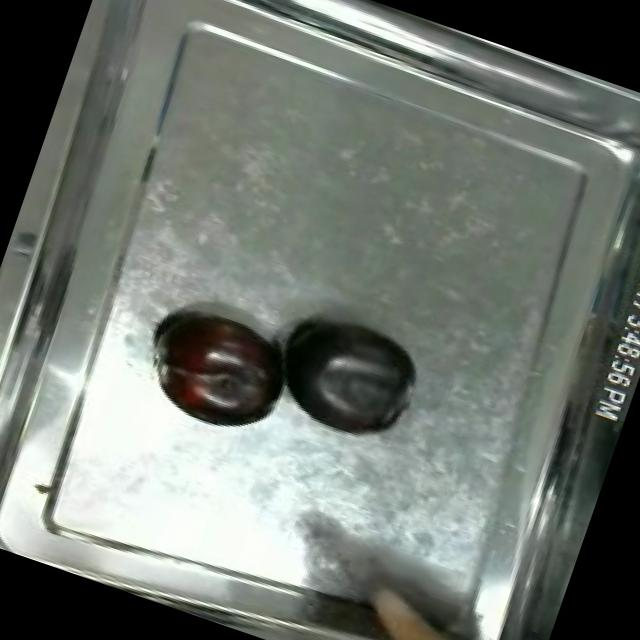Fruit: (256, 294, 433, 456), (132, 290, 308, 449)
